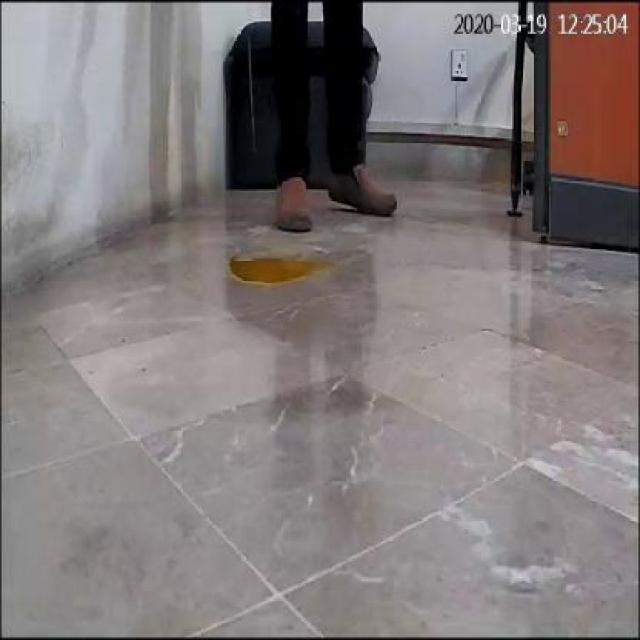spill: (228, 250, 322, 288)
